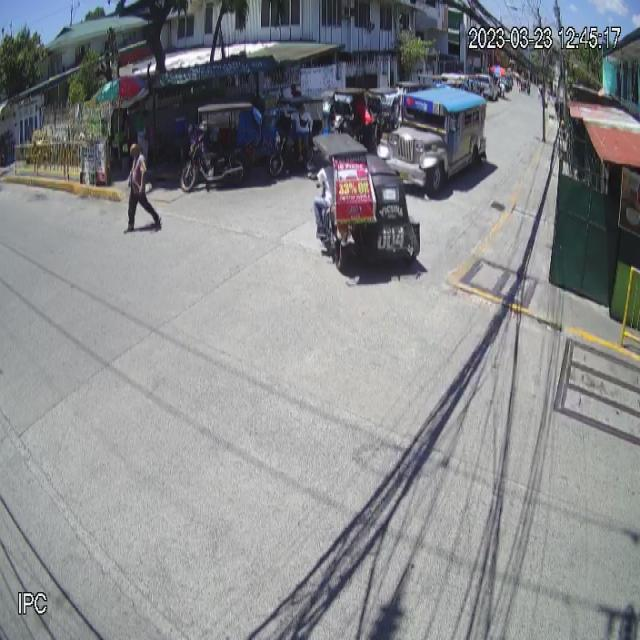Jeep: (375, 87, 487, 195)
Tricycle: (313, 133, 421, 268)
